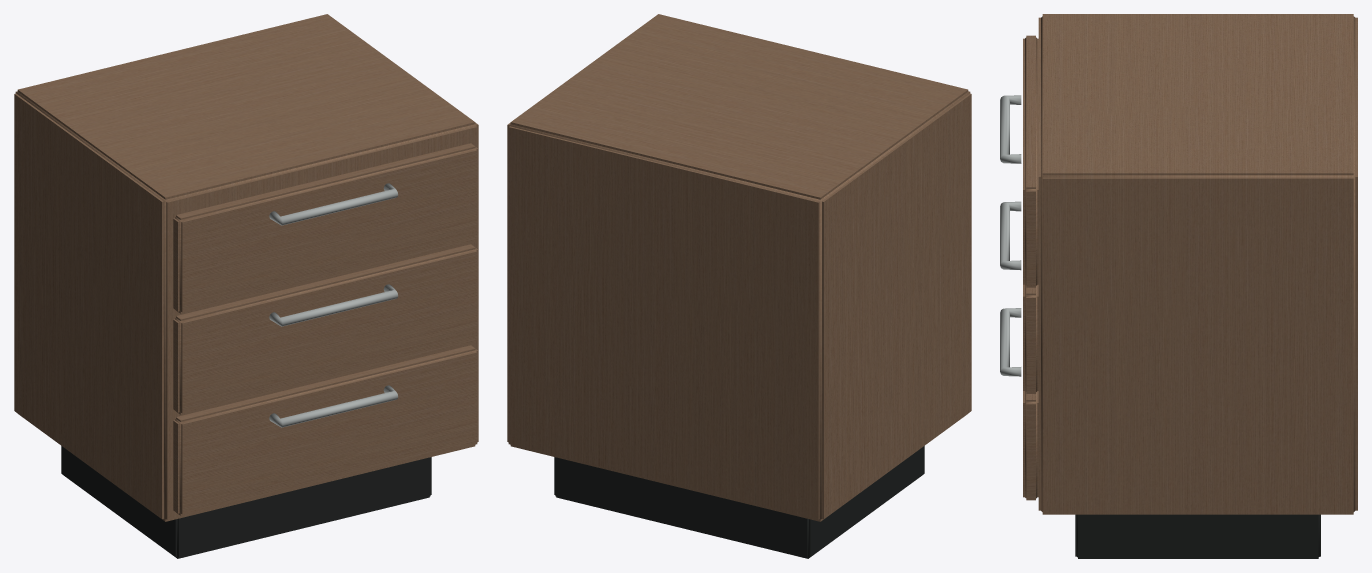
Rendered from industrial.bedside.gltf.
3 views of the same model, side by side, from view 1: azimuth 30°, elevation 25°; view 2: azimuth 150°, elevation 25°; view 3: azimuth 270°, elevation 25° (orthographic). The views are drawn at different scales.
Parts seen in each view (by area): view 1: industrial.bedside.carcass; view 2: industrial.bedside.carcass; view 3: industrial.bedside.carcass.
Boxes of the visible parts, x1,y1,x2,y2 form: industrial.bedside.carcass: [14, 14, 478, 558]; industrial.bedside.carcass: [507, 14, 971, 558]; industrial.bedside.carcass: [1000, 14, 1357, 558].
Size of the model in its own units: 0.47 by 0.54 by 0.437.
Materials: 3 (1 with a texture image).
